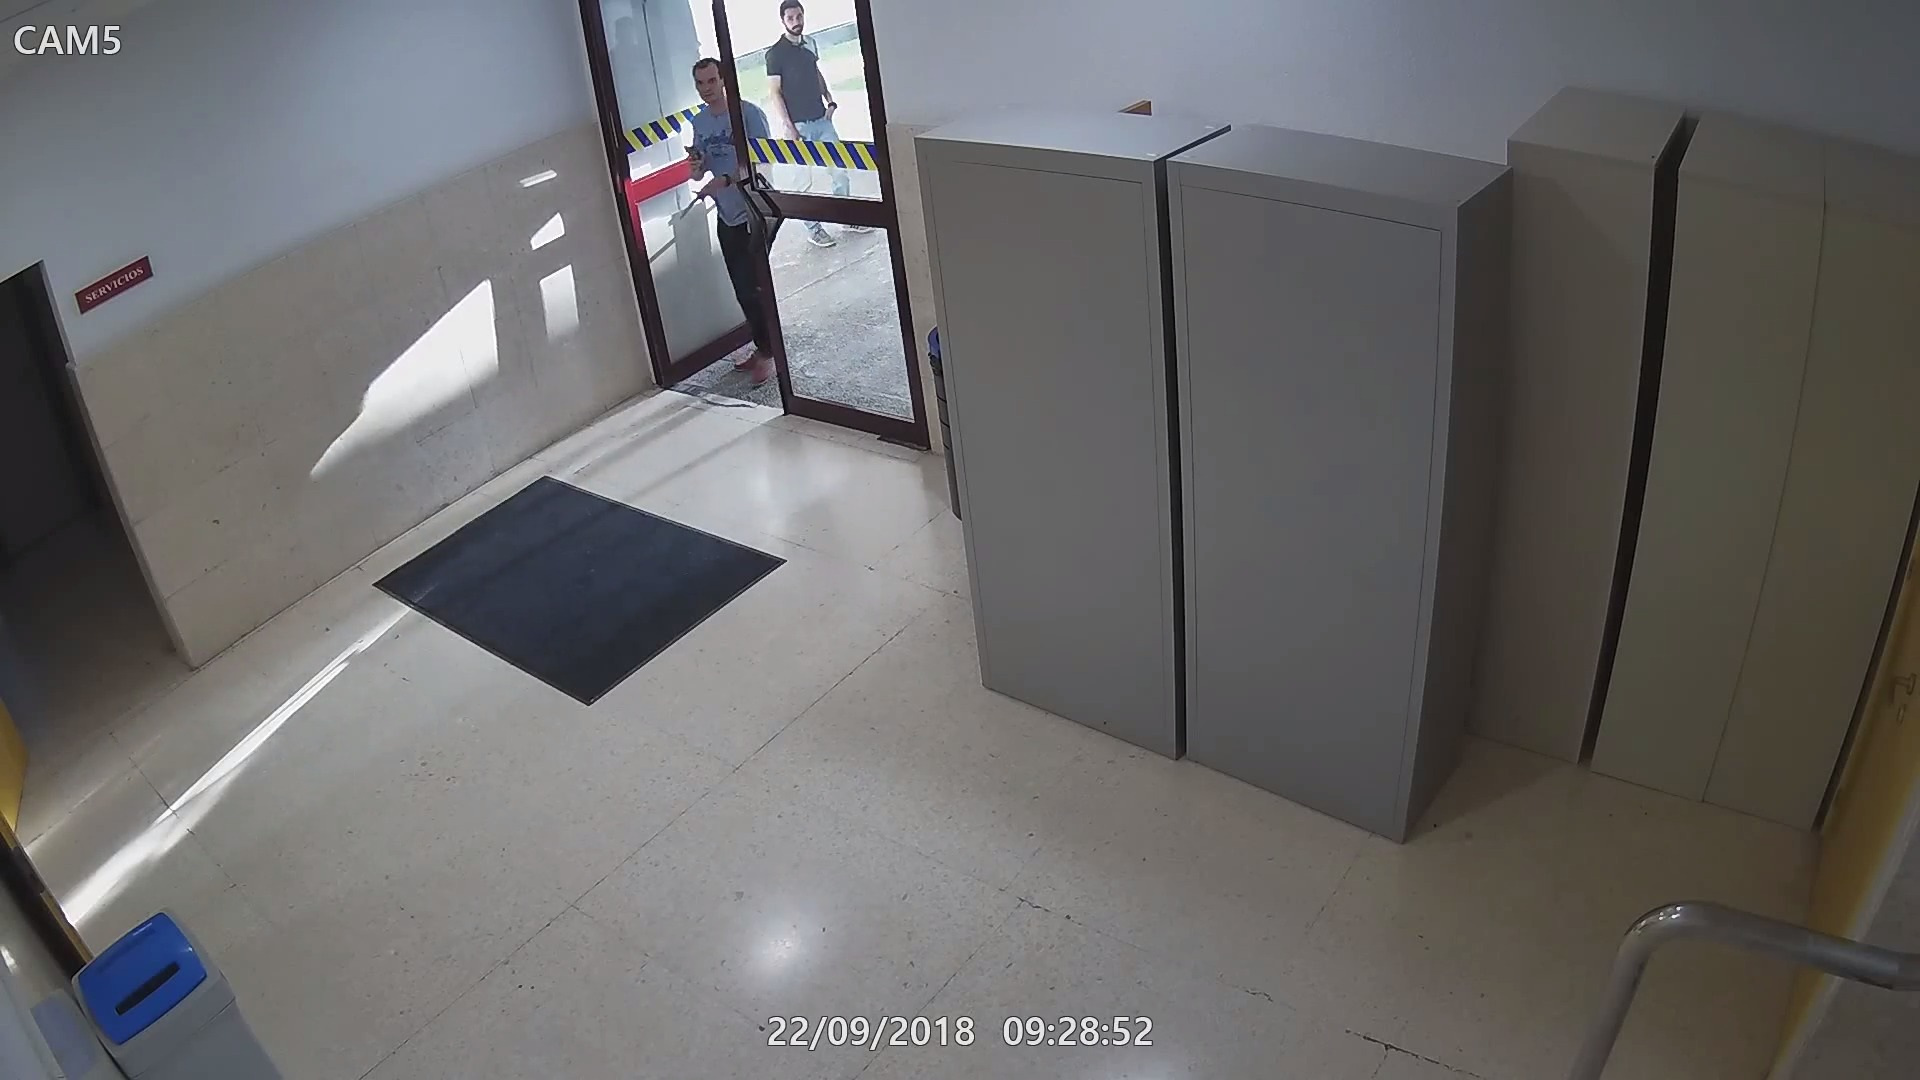Handgun: (682, 146, 709, 183)
Knife: (678, 173, 724, 223)
